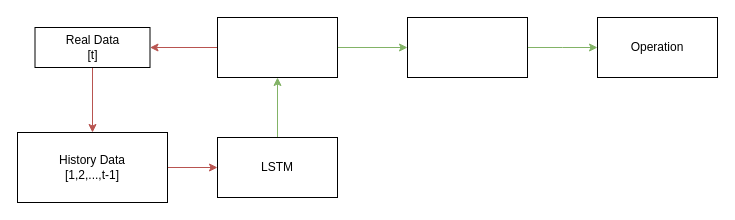
Some shapes in this 735 by 220 pixel diagram are drawn without their labels. Each missing label, with the box of its shape:
Prediction [t]: (216, 16, 338, 78)
RL: (406, 16, 528, 78)
